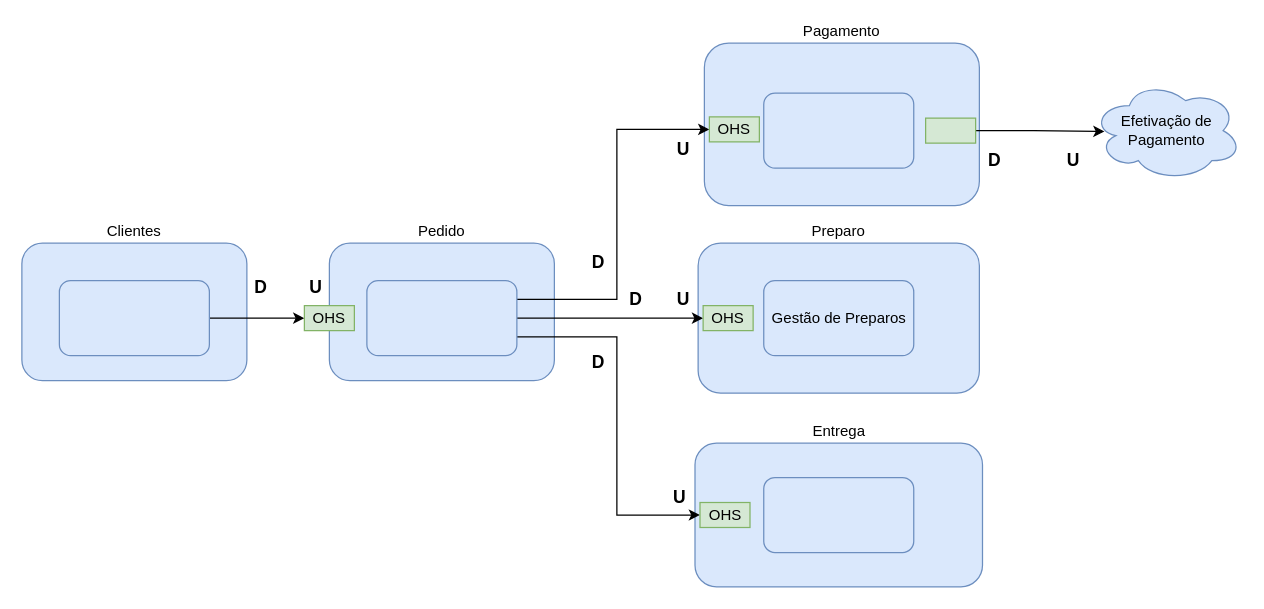
Some shapes in this 1264 by 609 pixel diagram are drawn without their labels. The shapes that lost their labels are listed below. From the top down, each one's box as (x1, y1, x2, y2) in pixels, then its label:
(762, 92, 914, 168): Gestão de Pagamentos
(924, 117, 976, 143): ACL
(58, 279, 209, 356): Gestão de Clientes
(366, 279, 517, 356): Gestão de Pedidos
(762, 476, 914, 552): Gestão de Entregas
